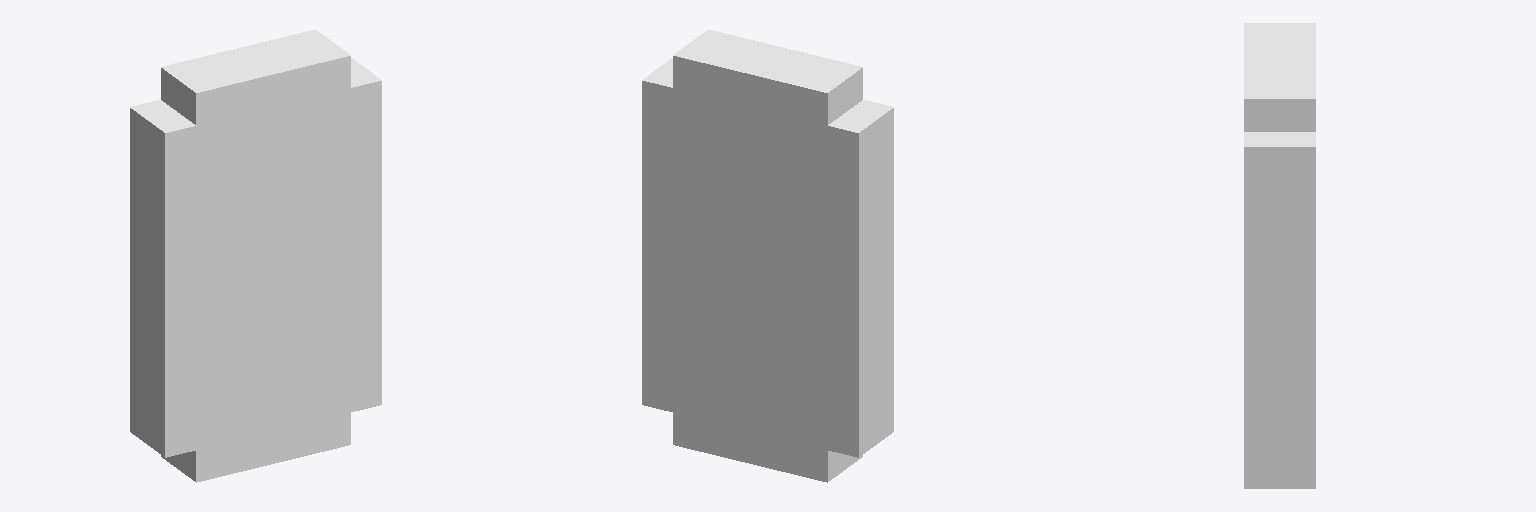
File: item_phone.obj
3 views of the same model, side by side, from view 1: azimuth 30°, elevation 25°; view 2: azimuth 150°, elevation 25°; view 3: azimuth 270°, elevation 25° (orthographic).
Size of the model in its own units: 7 by 12 by 2.